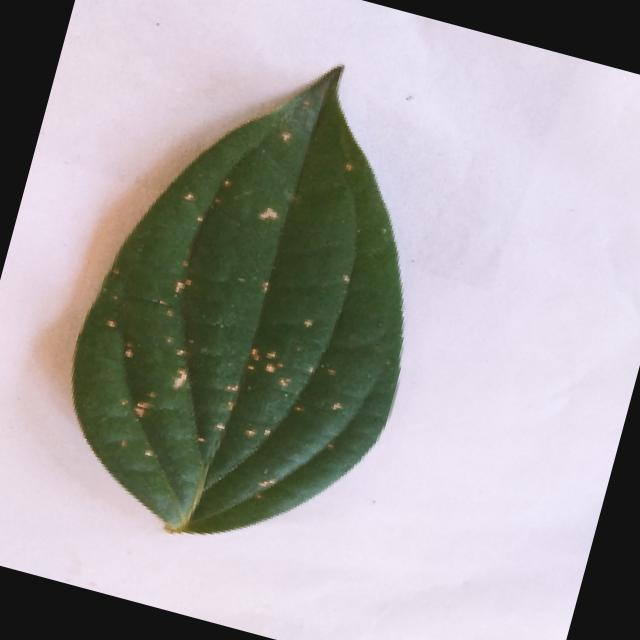pollu-disease: (13, 21, 489, 592)
